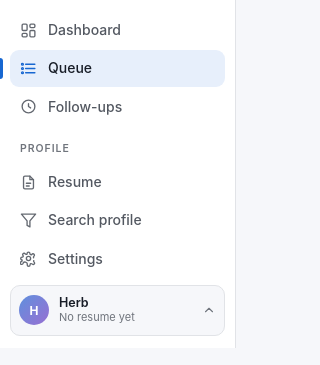
Sidebar profile menu › closes on Escape
This screenshot has width=320, height=365.
Click the button "H Herb No resume yet": (118, 310) [10,285,225,336]
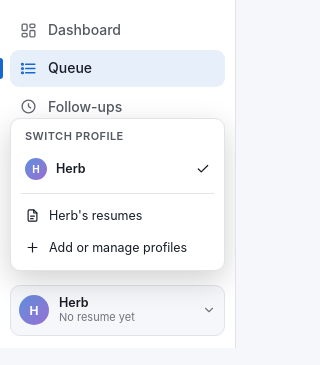
Expected: the menu is shown, [10,118,225,271]
Press Escape
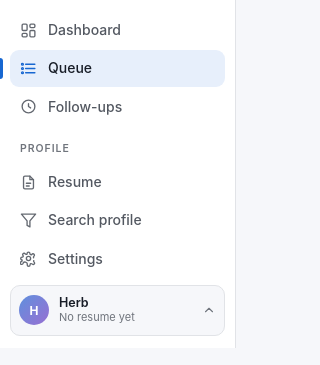
Expected: the menu is gone
